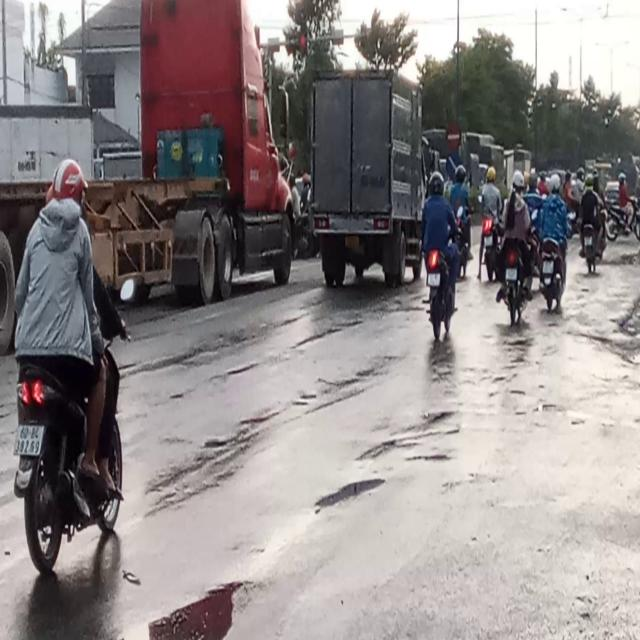bien_trang: (16, 420, 44, 460)
